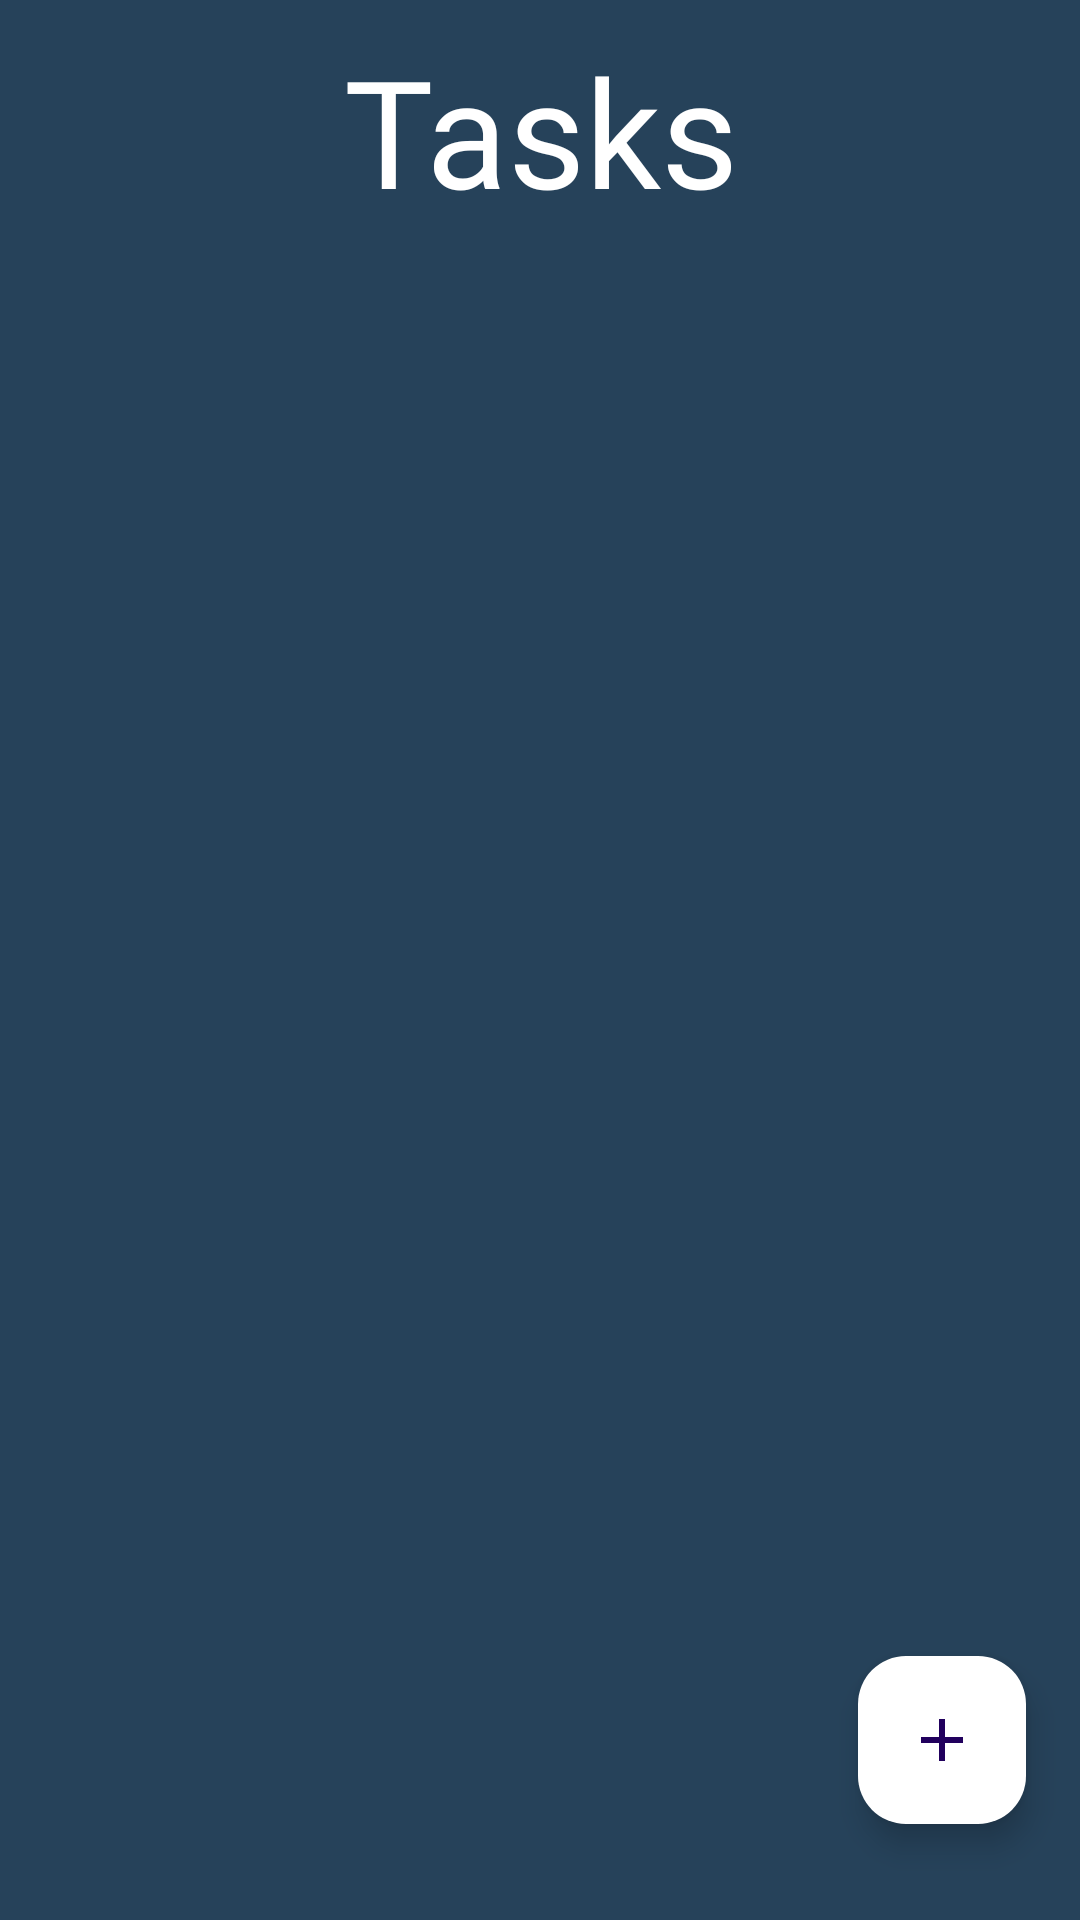

Icons on this 1080px×1920px Android screen, each with the point to tap as point (x, y):
Add new Task: point (942, 1740)
